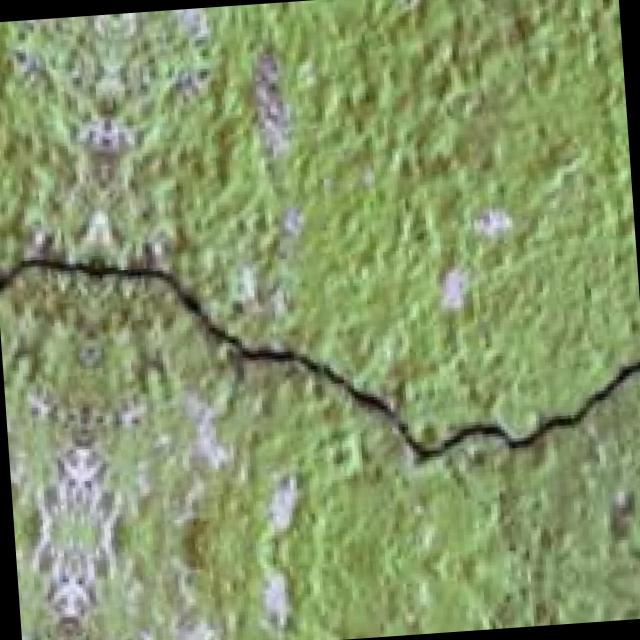crack: (0, 211, 640, 540)
